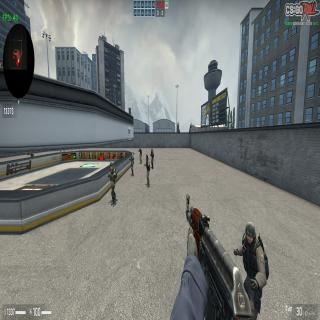CT-Body: (233, 221, 268, 320), (108, 162, 117, 206), (144, 154, 150, 188), (130, 151, 134, 177), (150, 148, 154, 170)
CT-Head: (244, 221, 256, 247), (110, 162, 113, 170), (146, 154, 148, 160), (130, 151, 132, 156), (151, 148, 153, 152), (140, 147, 140, 150)
T-Body: (138, 147, 142, 164), (27, 152, 34, 158)
